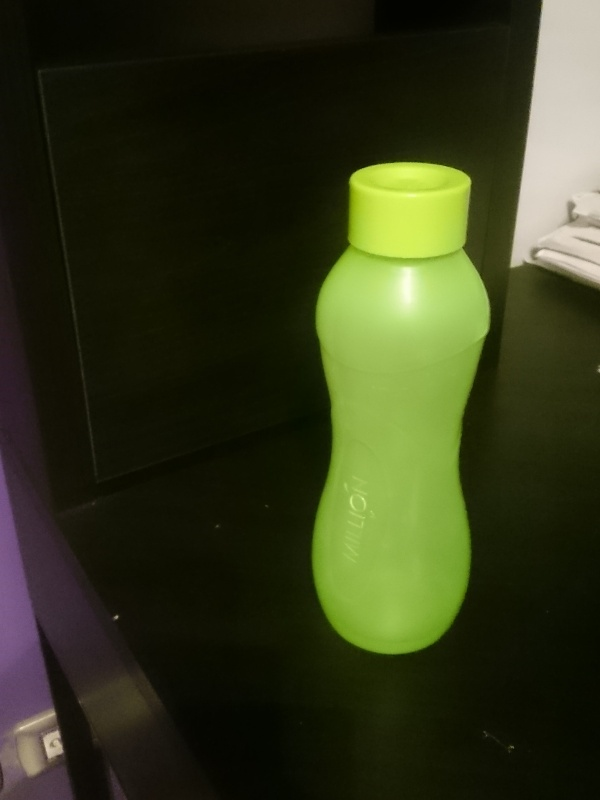my bottle: (311, 160, 489, 655)
